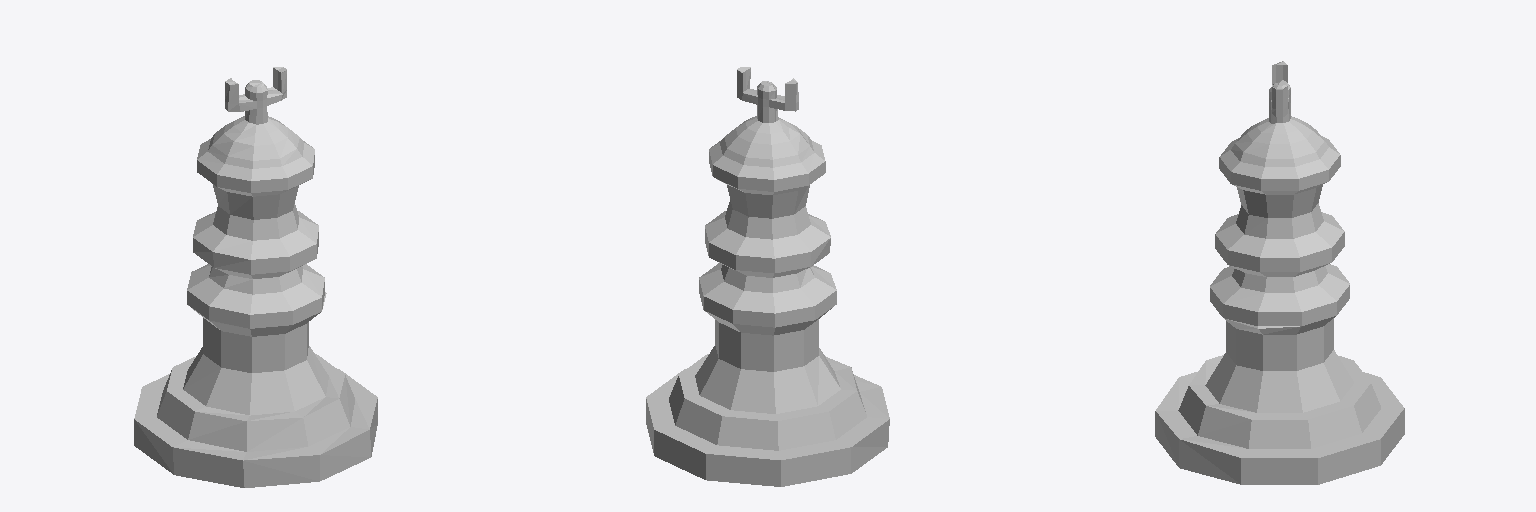
Rendered from king.obj.
The picture shows the model from 3 angles: view 1: azimuth 30°, elevation 25°; view 2: azimuth 150°, elevation 25°; view 3: azimuth 270°, elevation 25°; orthographic projection.
Size of the model in its own units: 1.46 by 2.45 by 1.53.